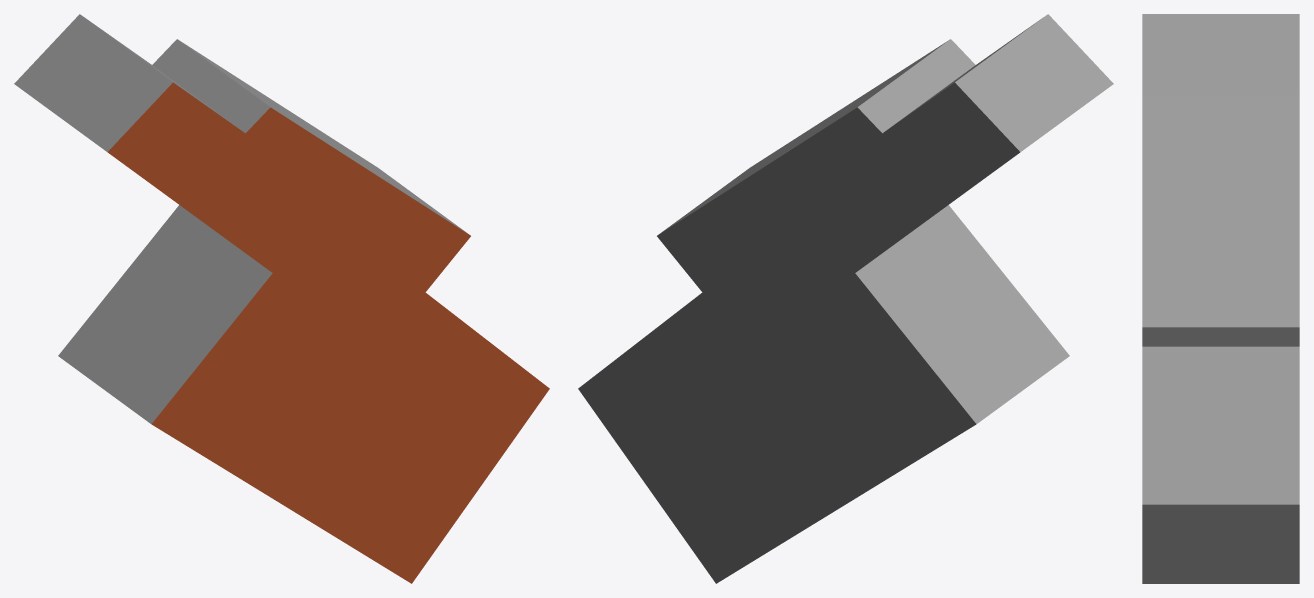
File: construction_3992_assumed_A_Casa_h6m.obj
3 views of the same model, side by side, from view 1: azimuth 30°, elevation 25°; view 2: azimuth 150°, elevation 25°; view 3: azimuth 270°, elevation 25° (orthographic). The views are drawn at different scales.
Visible parts, largest first — view 1: construction_3992_assumed_A_Casa; view 2: construction_3992_assumed_A_Casa; view 3: construction_3992_assumed_A_Casa.
Boxes of the visible parts, box(x1,y1,x2,y2) form: construction_3992_assumed_A_Casa: box(14, 14, 549, 583); construction_3992_assumed_A_Casa: box(578, 14, 1113, 583); construction_3992_assumed_A_Casa: box(1142, 14, 1299, 583).
Bounding box in the file's own units: 16.41 × 19.84 × 6.
